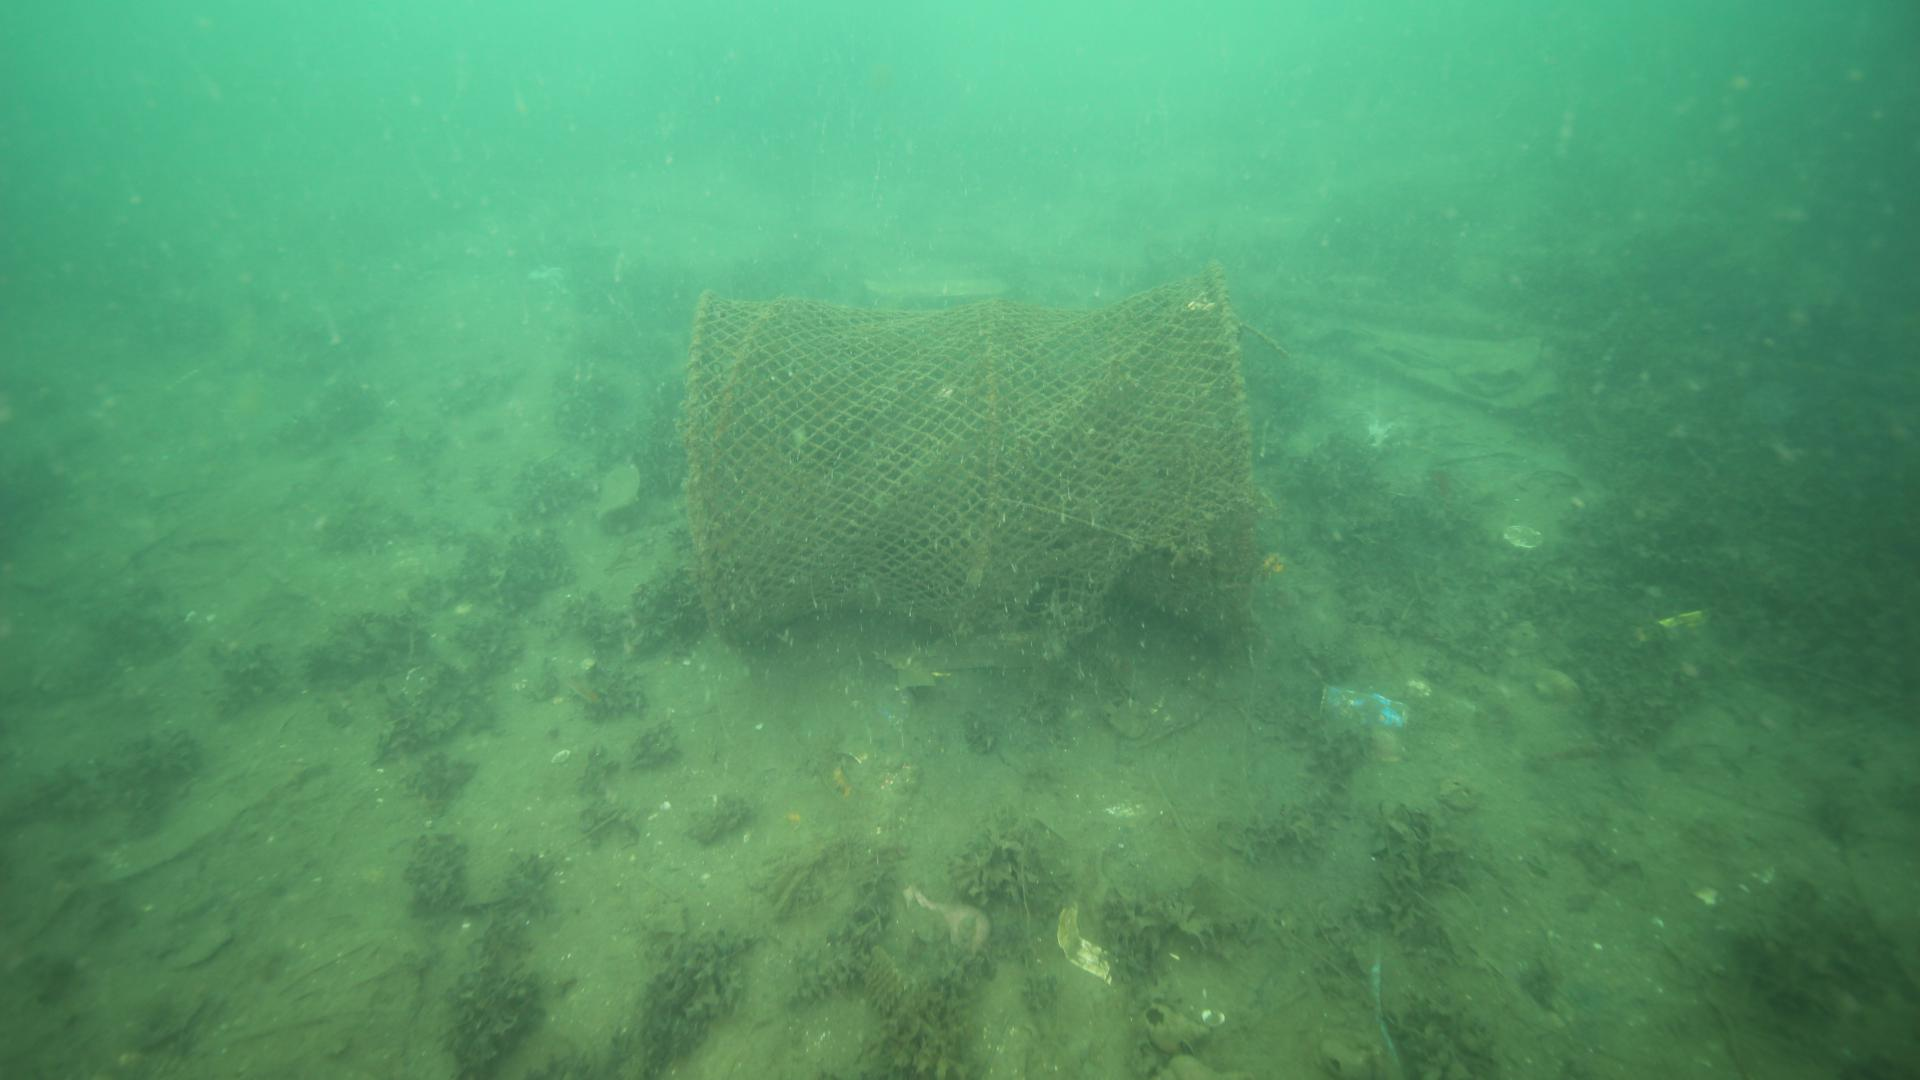spring fish trap: (678, 262, 1269, 702)
